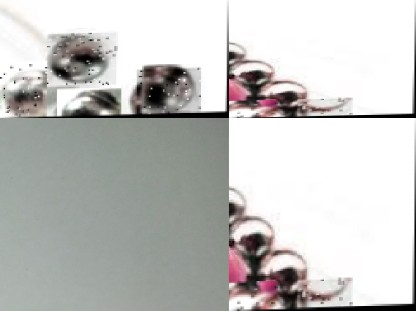ironball: (46, 32, 117, 87), (136, 69, 201, 115), (0, 60, 47, 118), (254, 249, 310, 292), (57, 88, 121, 117), (228, 219, 272, 260), (258, 80, 311, 113), (297, 279, 352, 309), (228, 282, 277, 311), (231, 61, 271, 86), (297, 98, 352, 116), (228, 100, 277, 118), (225, 183, 245, 222), (226, 38, 246, 65)
